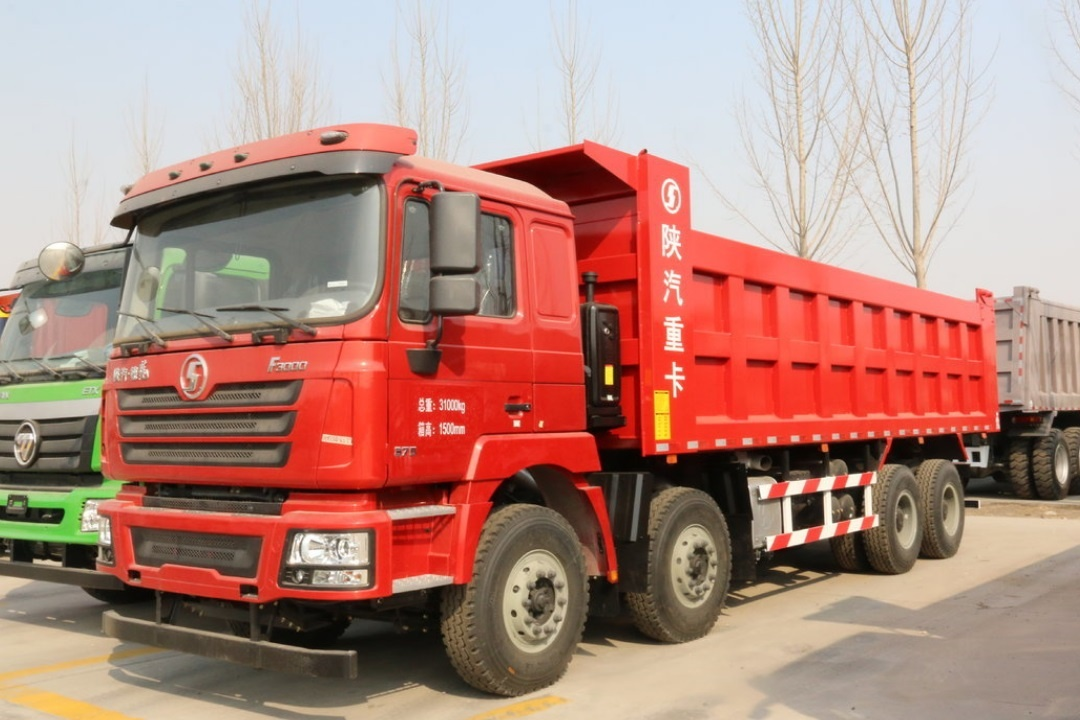heavy truck: (93, 119, 1005, 686)
